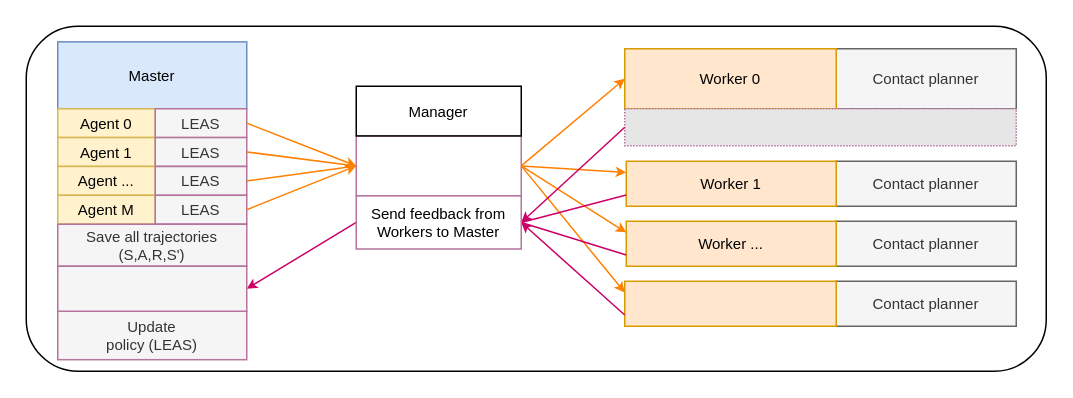
Image size: 1073x398. Some labels were removed from this diagram. The shapes that lost their labels are listed below. From the top down, each one's box as (x1, y1, x2, y2) in pixels, then its label:
(623, 107, 1016, 146): Feedback from contact planner
(355, 134, 521, 196): Distribute guide paths to Workers
(56, 265, 247, 311): Apply feedback to trajectories
(623, 280, 836, 326): Worker N
